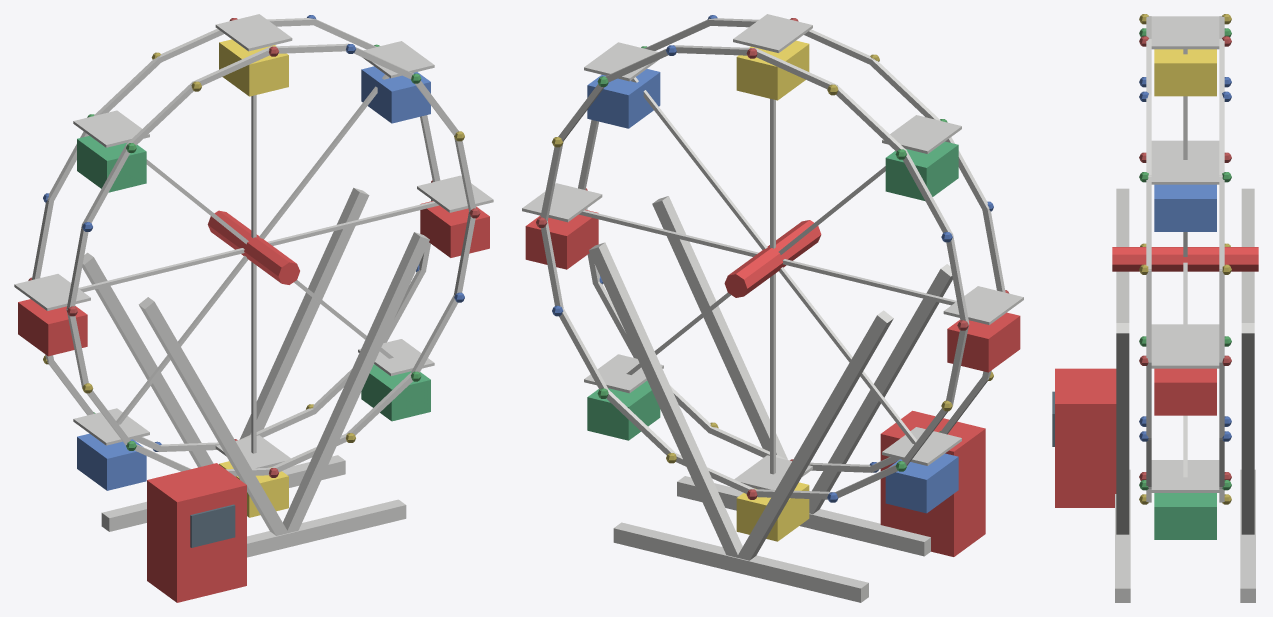
File: VJ_Noria.fbx
The picture shows the model from 3 angles, left to right: view 1: azimuth 30°, elevation 25°; view 2: azimuth 150°, elevation 25°; view 3: azimuth 270°, elevation 25°; orthographic projection. The views are drawn at different scales.
Parts seen in each view (by area): view 1: VJ_Noria; view 2: VJ_Noria; view 3: VJ_Noria.
Boxes of the visible parts, left/top/right/bottom form: VJ_Noria: left=14, top=14, right=493, bottom=602; VJ_Noria: left=522, top=14, right=1023, bottom=602; VJ_Noria: left=1052, top=14, right=1258, bottom=602.
Bounding box in the file's own units: 10.2 × 10.73 × 3.95.
